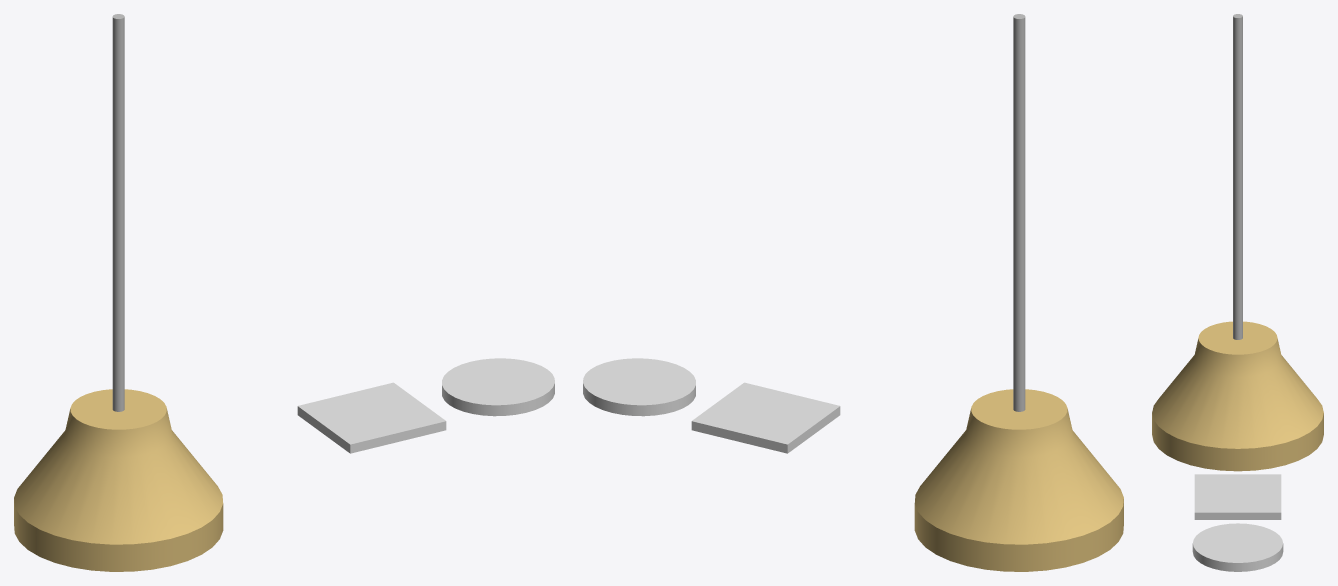
Rendered from luces.fbx.
3 views of the same model, side by side, from view 1: azimuth 30°, elevation 25°; view 2: azimuth 150°, elevation 25°; view 3: azimuth 270°, elevation 25° (orthographic). The views are drawn at different scales.
Visible parts, largest first — view 1: Cilindro.001, Cube.001, Cilindro; view 2: Cilindro.001, Cube.001, Cilindro; view 3: Cilindro.001, Cube.001, Cilindro.
Boxes of the visible parts, left/top/right/bottom form: Cilindro.001: left=14, top=14, right=223, bottom=571; Cube.001: left=297, top=382, right=446, bottom=453; Cilindro: left=442, top=358, right=554, bottom=416; Cilindro.001: left=914, top=14, right=1123, bottom=571; Cube.001: left=691, top=382, right=840, bottom=453; Cilindro: left=583, top=358, right=695, bottom=416; Cilindro.001: left=1152, top=14, right=1323, bottom=471; Cube.001: left=1194, top=474, right=1281, bottom=519; Cilindro: left=1192, top=523, right=1283, bottom=571.
Bounding box in the file's own units: 772 × 743 × 269.
